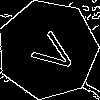V: (23, 24, 80, 78)
